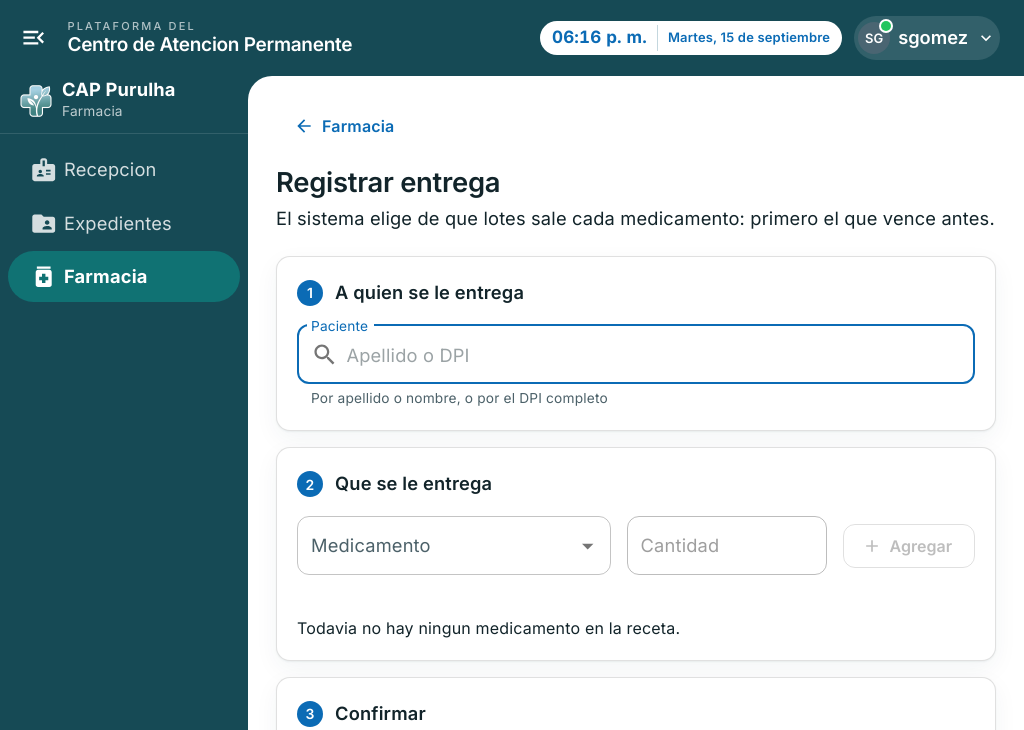
Test case: registrar una entrega › elegir al paciente lo fija arriba, con su comunidad
Check: the heading "Registrar entrega" is shown, box top-left (276, 165), bottom-right (500, 199)
Step 1. Type "Perez" into the field labelled "Paciente" → (661, 355), box top-left (346, 325), bottom-right (975, 384)
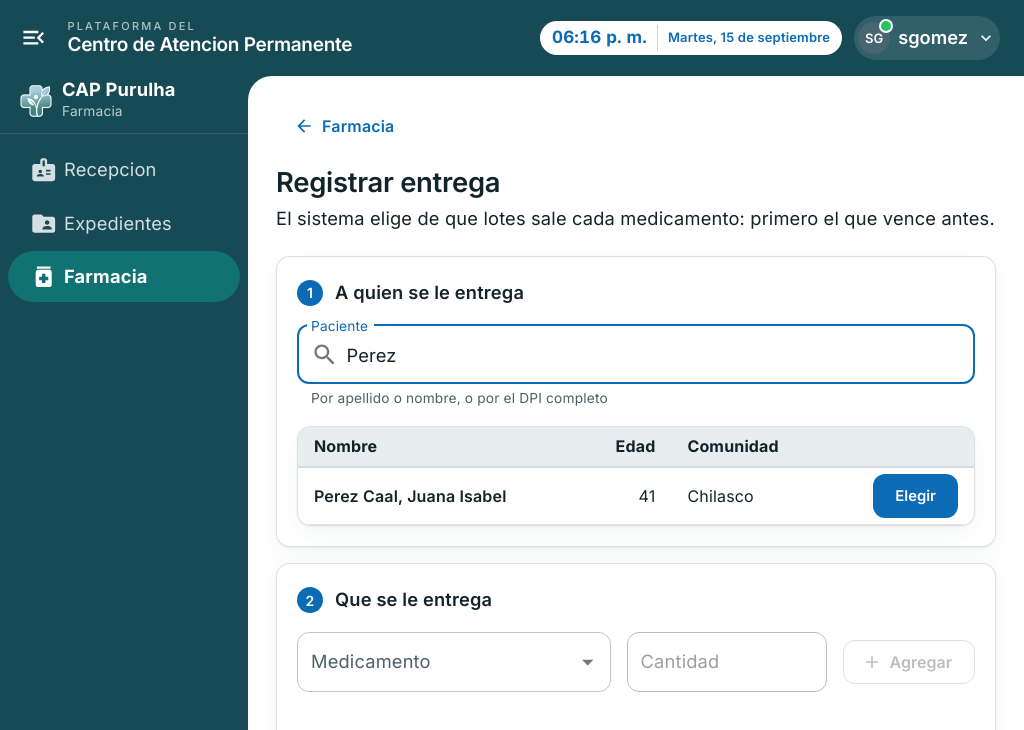
Step 2. Click the button "Elegir" → (916, 496), box top-left (873, 474), bottom-right (958, 518)
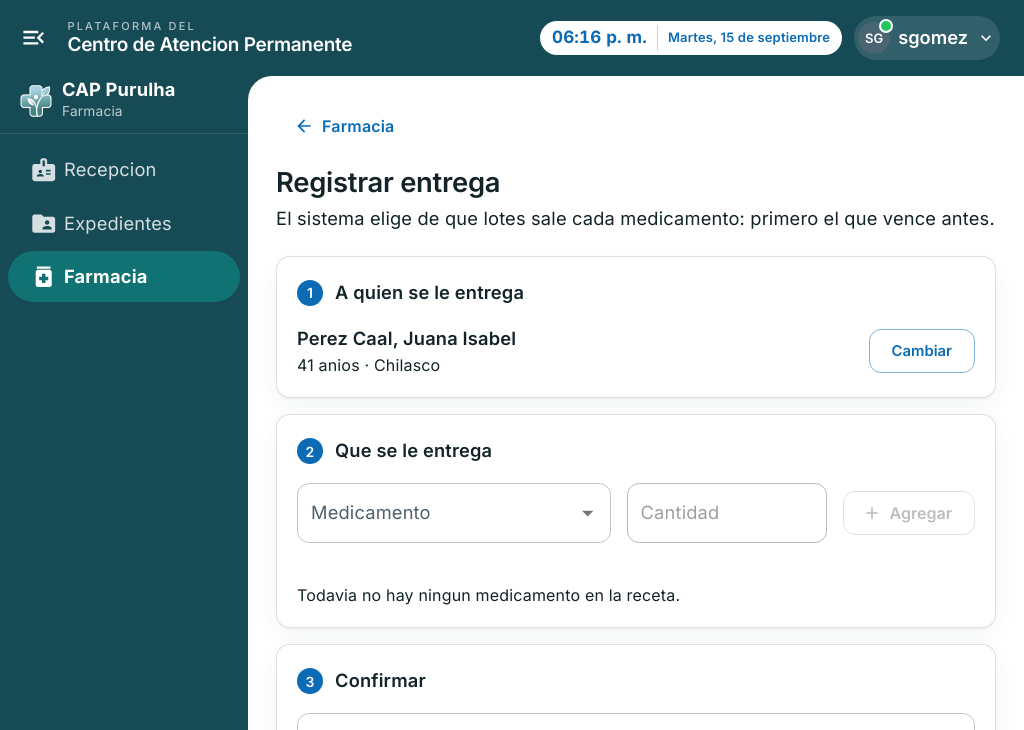
Check: the text "Perez Caal, Juana Isabel" is shown, box top-left (297, 325), bottom-right (516, 352)
Check: the text "41 anios · Chilasco" is shown, box top-left (297, 355), bottom-right (440, 375)
